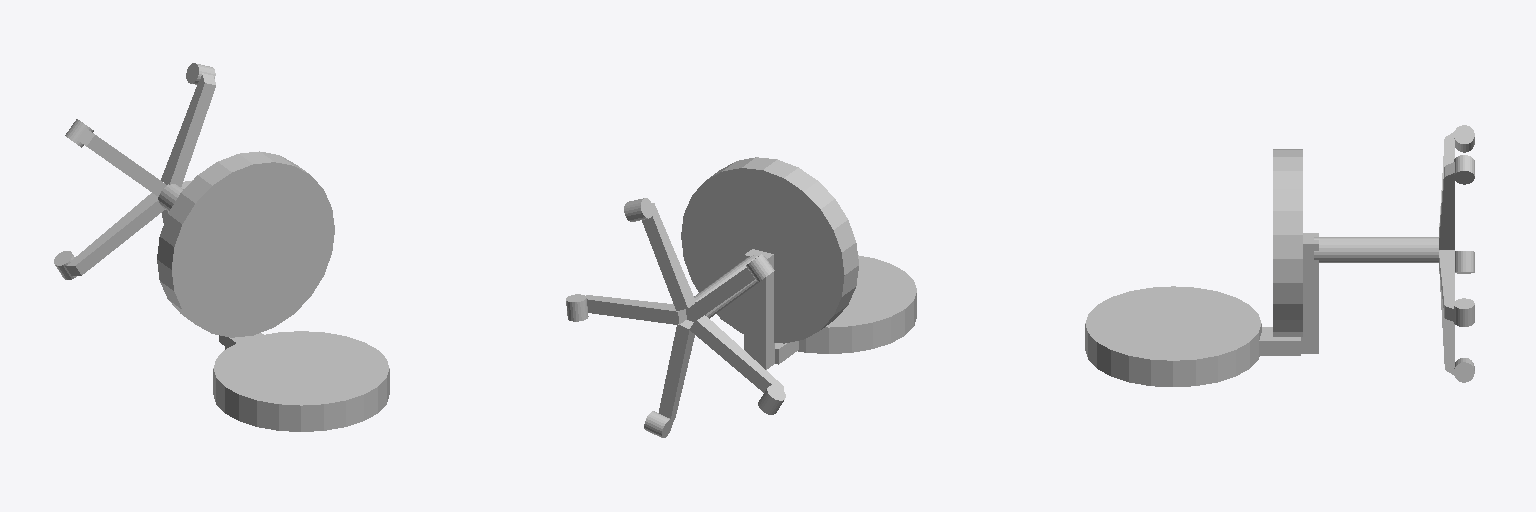
File: chair.obj
The picture shows the model from 3 angles: view 1: azimuth 30°, elevation 25°; view 2: azimuth 150°, elevation 25°; view 3: azimuth 270°, elevation 25°; orthographic projection.
Visible parts, largest first — view 1: top1, leg3, leg2, leg5; view 2: top1, leg2, leg3, leg5, leg4, leg1; view 3: top1, leg5, leg3, leg4, leg1.
Boxes of the visible parts, <box> form: top1: <box>157,151,389,431</box>; leg3: <box>161,63,215,186</box>; leg2: <box>54,193,164,279</box>; leg5: <box>65,119,182,211</box>; top1: <box>681,157,916,369</box>; leg2: <box>689,315,785,414</box>; leg3: <box>624,198,695,310</box>; leg5: <box>686,254,774,321</box>; leg4: <box>566,294,686,324</box>; leg1: <box>644,320,694,437</box>; top1: <box>1085,149,1318,386</box>; leg5: <box>1314,125,1474,262</box>; leg3: <box>1439,155,1474,249</box>; leg4: <box>1439,250,1474,326</box>; leg1: <box>1439,271,1474,382</box>.
Size of the model in its own units: 0.5973 by 0.6141 by 0.9278.